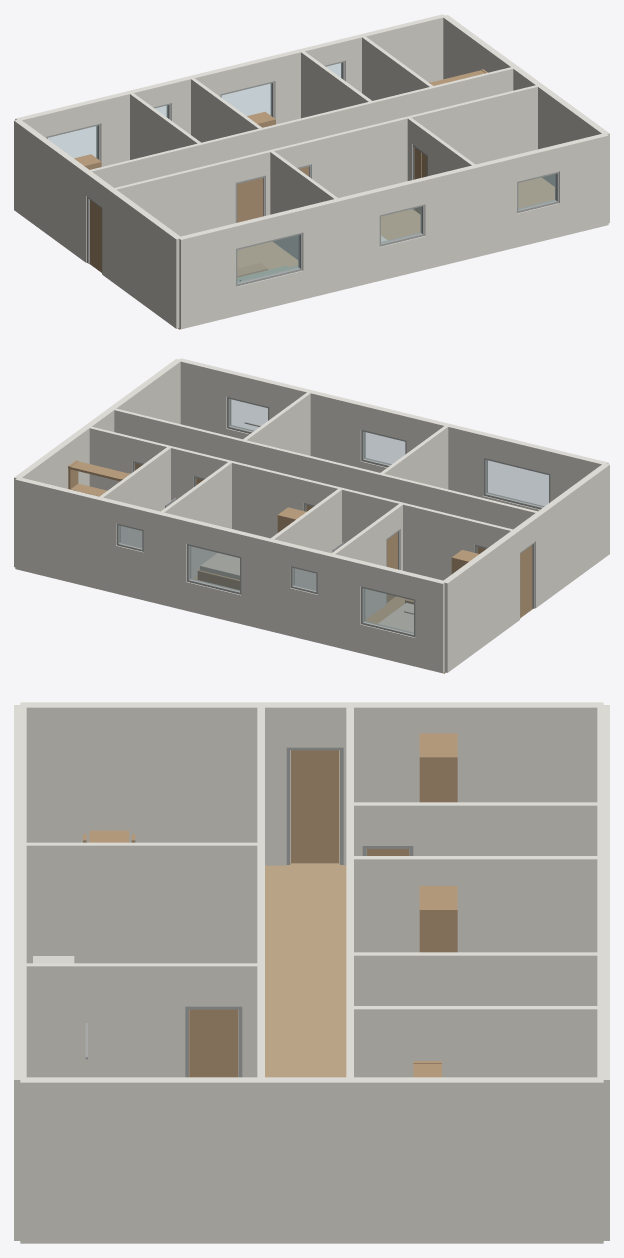
The model's file is approved-scene.glb.
3 views of the same model, one above another, from view 1: azimuth 30°, elevation 25°; view 2: azimuth 150°, elevation 25°; view 3: azimuth 270°, elevation 25° (orthographic). The views are drawn at different scales.
Visible parts, largest first — view 1: wall-public-south-solid-end, wall-exterior-south-solid-before-window-service, wall-exterior-west-solid-end, wall-exterior-south-solid-before-window-kitchen, wall-exterior-west-solid-before-door-primary-entry, wall-public-south-solid-before-door-circulation-living, wall-exterior-east-solid-end, wall-exterior-south-solid-before-window-living, wall-exterior-south-solid-end, wall-exterior-north-solid-before-window-common-bath, wall-public-north-solid-before-door-circulation-bedroom-2, wall-living-kitchen-solid-end (+40 smaller); view 2: wall-exterior-north-solid-before-window-common-bath, wall-exterior-west-solid-before-door-primary-entry, wall-exterior-west-solid-end, wall-public-north-solid-before-door-circulation-bedroom-2, wall-public-south-solid-end, wall-exterior-east-solid-end, wall-exterior-north-solid-before-window-ensuite, wall-exterior-south-solid-before-window-service, wall-public-north-solid-before-door-circulation-common-bath, wall-exterior-north-solid-before-window-bedroom-2, wall-exterior-north-solid-before-window-master, wall-exterior-south-solid-before-window-kitchen (+42 smaller); view 3: wall-exterior-east-solid-end, wall-exterior-west-solid-end, wall-living-kitchen-solid-end, wall-exterior-west-solid-before-door-primary-entry, wall-ensuite-bedroom-2-solid-end, wall-kitchen-service-solid-before-door-kitchen-service, floor-room-public-circulation, wall-common-bath-store-solid-end, wall-bedroom-2-common-bath-solid-end, wall-master-ensuite-solid-end, door-primary-entry-door-leaf-left, asset-pl-1-6-wardrobe-900-carcass (+15 smaller).
Part boxes in pixels (bbox=[...]): wall-public-south-solid-end: bbox=[310, 85, 538, 197]; wall-exterior-south-solid-before-window-service: bbox=[422, 155, 516, 269]; wall-exterior-west-solid-end: bbox=[102, 184, 181, 328]; wall-exterior-south-solid-before-window-kitchen: bbox=[300, 189, 379, 299]; wall-exterior-west-solid-before-door-primary-entry: bbox=[14, 119, 91, 262]; wall-public-south-solid-before-door-circulation-living: bbox=[114, 159, 235, 236]; wall-exterior-east-solid-end: bbox=[442, 15, 609, 223]; wall-exterior-south-solid-before-window-living: bbox=[179, 224, 235, 329]; wall-exterior-south-solid-end: bbox=[557, 133, 608, 236]; wall-exterior-north-solid-before-window-common-bath: bbox=[342, 14, 445, 92]; wall-public-north-solid-before-door-circulation-bedroom-2: bbox=[126, 126, 271, 184]; wall-living-kitchen-solid-end: bbox=[270, 151, 337, 259]; wall-exterior-north-solid-before-window-common-bath: bbox=[15, 477, 119, 593]; wall-exterior-west-solid-before-door-primary-entry: bbox=[443, 529, 519, 672]; wall-exterior-west-solid-end: bbox=[530, 464, 609, 608]; wall-public-north-solid-before-door-circulation-bedroom-2: bbox=[331, 485, 476, 580]; wall-public-south-solid-end: bbox=[113, 408, 341, 486]; wall-exterior-east-solid-end: bbox=[14, 359, 180, 567]; wall-exterior-north-solid-before-window-ensuite: bbox=[241, 532, 293, 635]; wall-exterior-south-solid-before-window-service: bbox=[269, 380, 363, 467]; wall-public-north-solid-before-door-circulation-common-bath: bbox=[218, 458, 304, 538]; wall-exterior-north-solid-before-window-bedroom-2: bbox=[143, 508, 189, 610]; wall-exterior-north-solid-before-window-master: bbox=[317, 551, 363, 652]; wall-exterior-south-solid-before-window-kitchen: bbox=[406, 414, 485, 497]; wall-exterior-east-solid-end: bbox=[20, 1077, 603, 1243]; wall-exterior-west-solid-end: bbox=[20, 702, 286, 865]; wall-living-kitchen-solid-end: bbox=[21, 842, 261, 963]; wall-exterior-west-solid-before-door-primary-entry: bbox=[343, 702, 603, 865]; wall-ensuite-bedroom-2-solid-end: bbox=[350, 856, 603, 952]; wall-kitchen-service-solid-before-door-kitchen-service: bbox=[21, 963, 185, 1077]; floor-room-public-circulation: bbox=[265, 863, 346, 1077]; wall-common-bath-store-solid-end: bbox=[354, 1006, 603, 1077]; wall-bedroom-2-common-bath-solid-end: bbox=[350, 952, 601, 1005]; wall-master-ensuite-solid-end: bbox=[413, 802, 603, 855]; door-primary-entry-door-leaf-left: bbox=[290, 750, 339, 863]; asset-pl-1-6-wardrobe-900-carcass: bbox=[419, 733, 457, 802].
Bounding box in the file's own units: 14.2 × 2.85 × 9.4.
